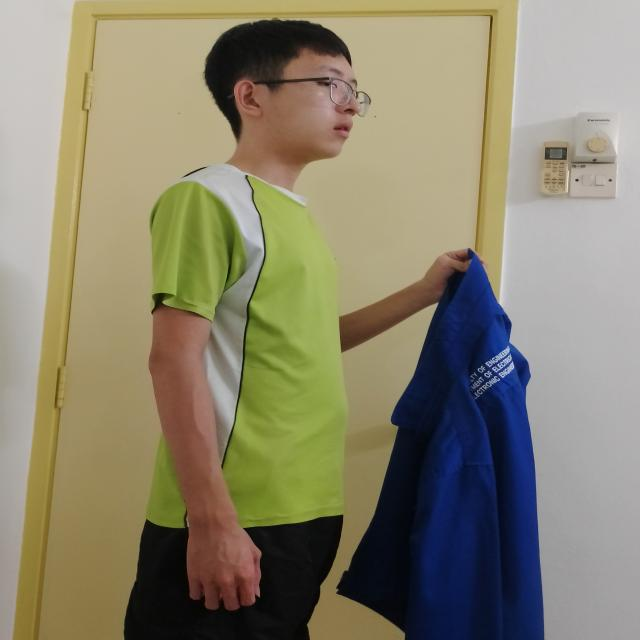person_without_labcoat: (124, 20, 544, 640)
